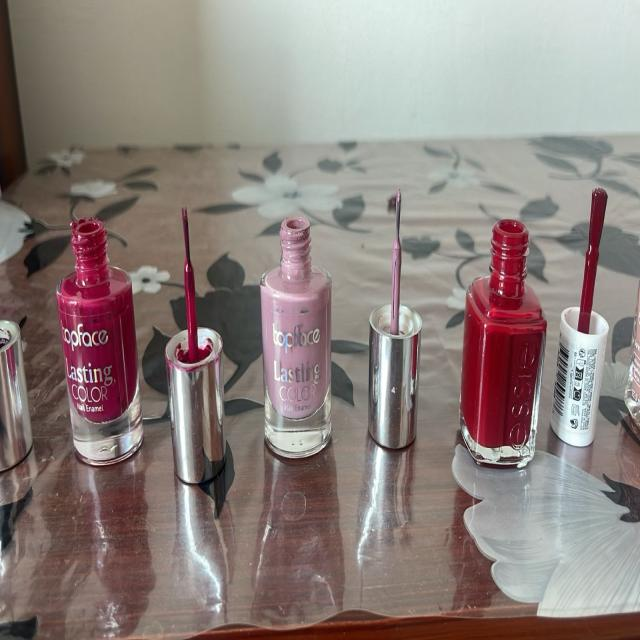nail polish: (53, 189, 151, 496), (452, 198, 551, 484), (252, 200, 345, 480), (356, 178, 432, 480), (158, 189, 232, 496), (548, 173, 620, 461), (570, 175, 620, 311), (371, 170, 424, 296), (164, 193, 212, 306)
